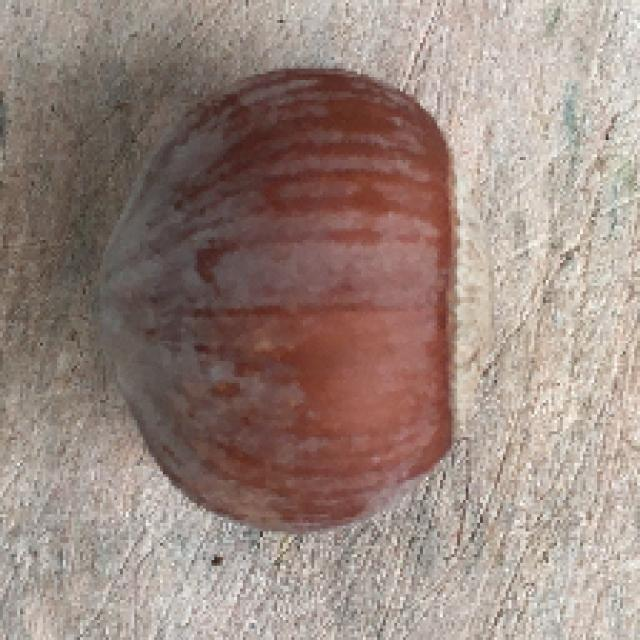qualityHazelnut: (92, 62, 476, 554)
